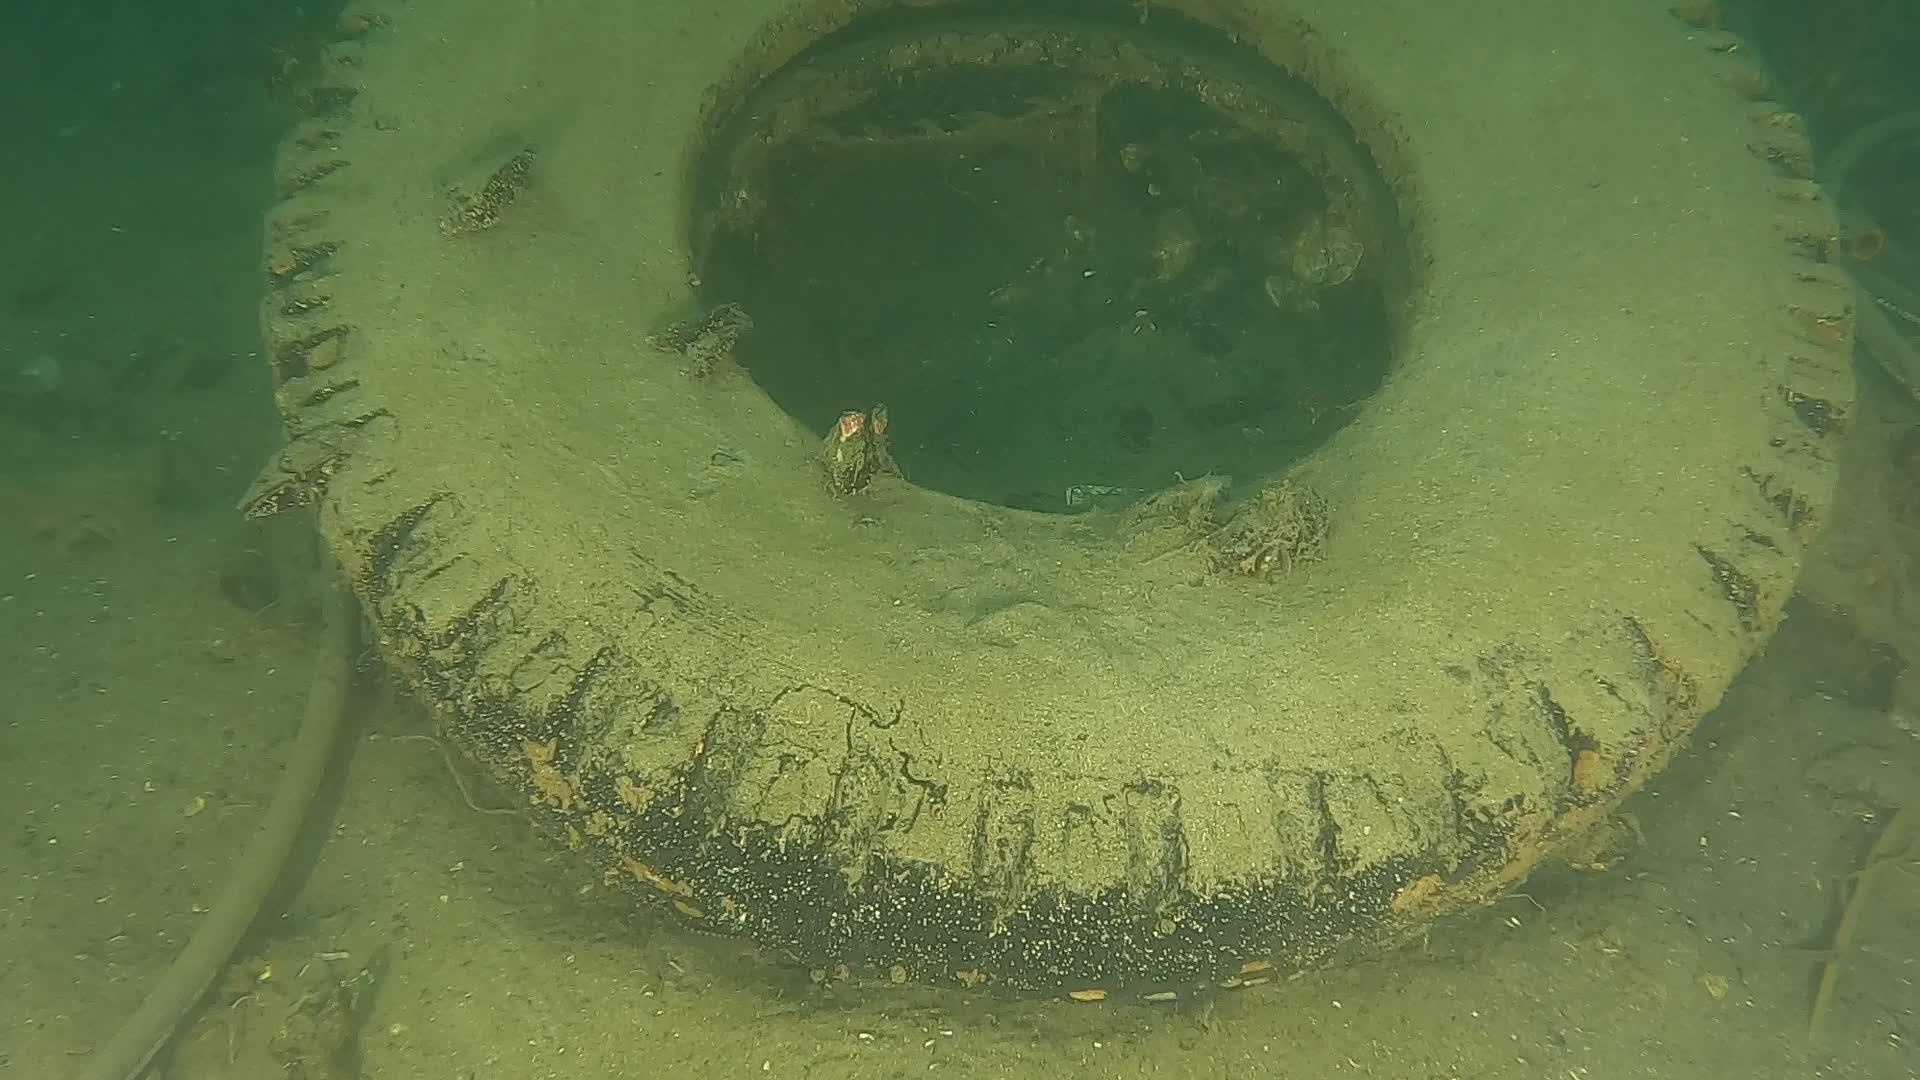tire: (255, 0, 1862, 994)
